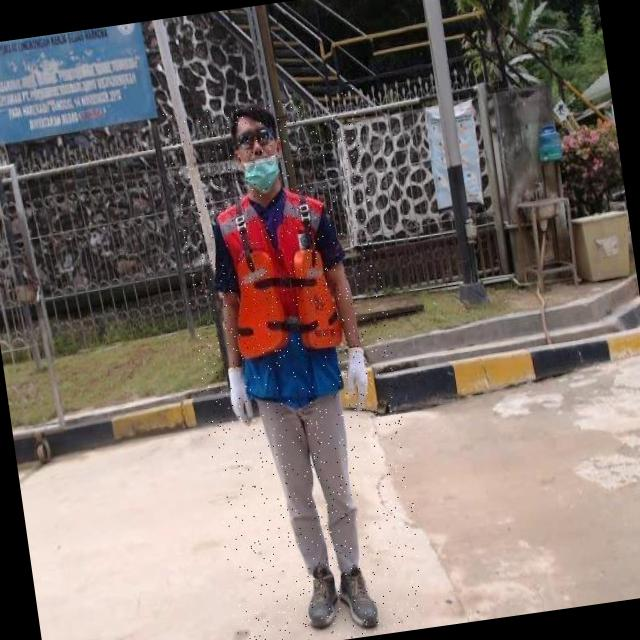safety_vest: (213, 184, 351, 412)
vehicle: (163, 86, 432, 640)
work_boots: (334, 562, 382, 635), (300, 564, 344, 634)
